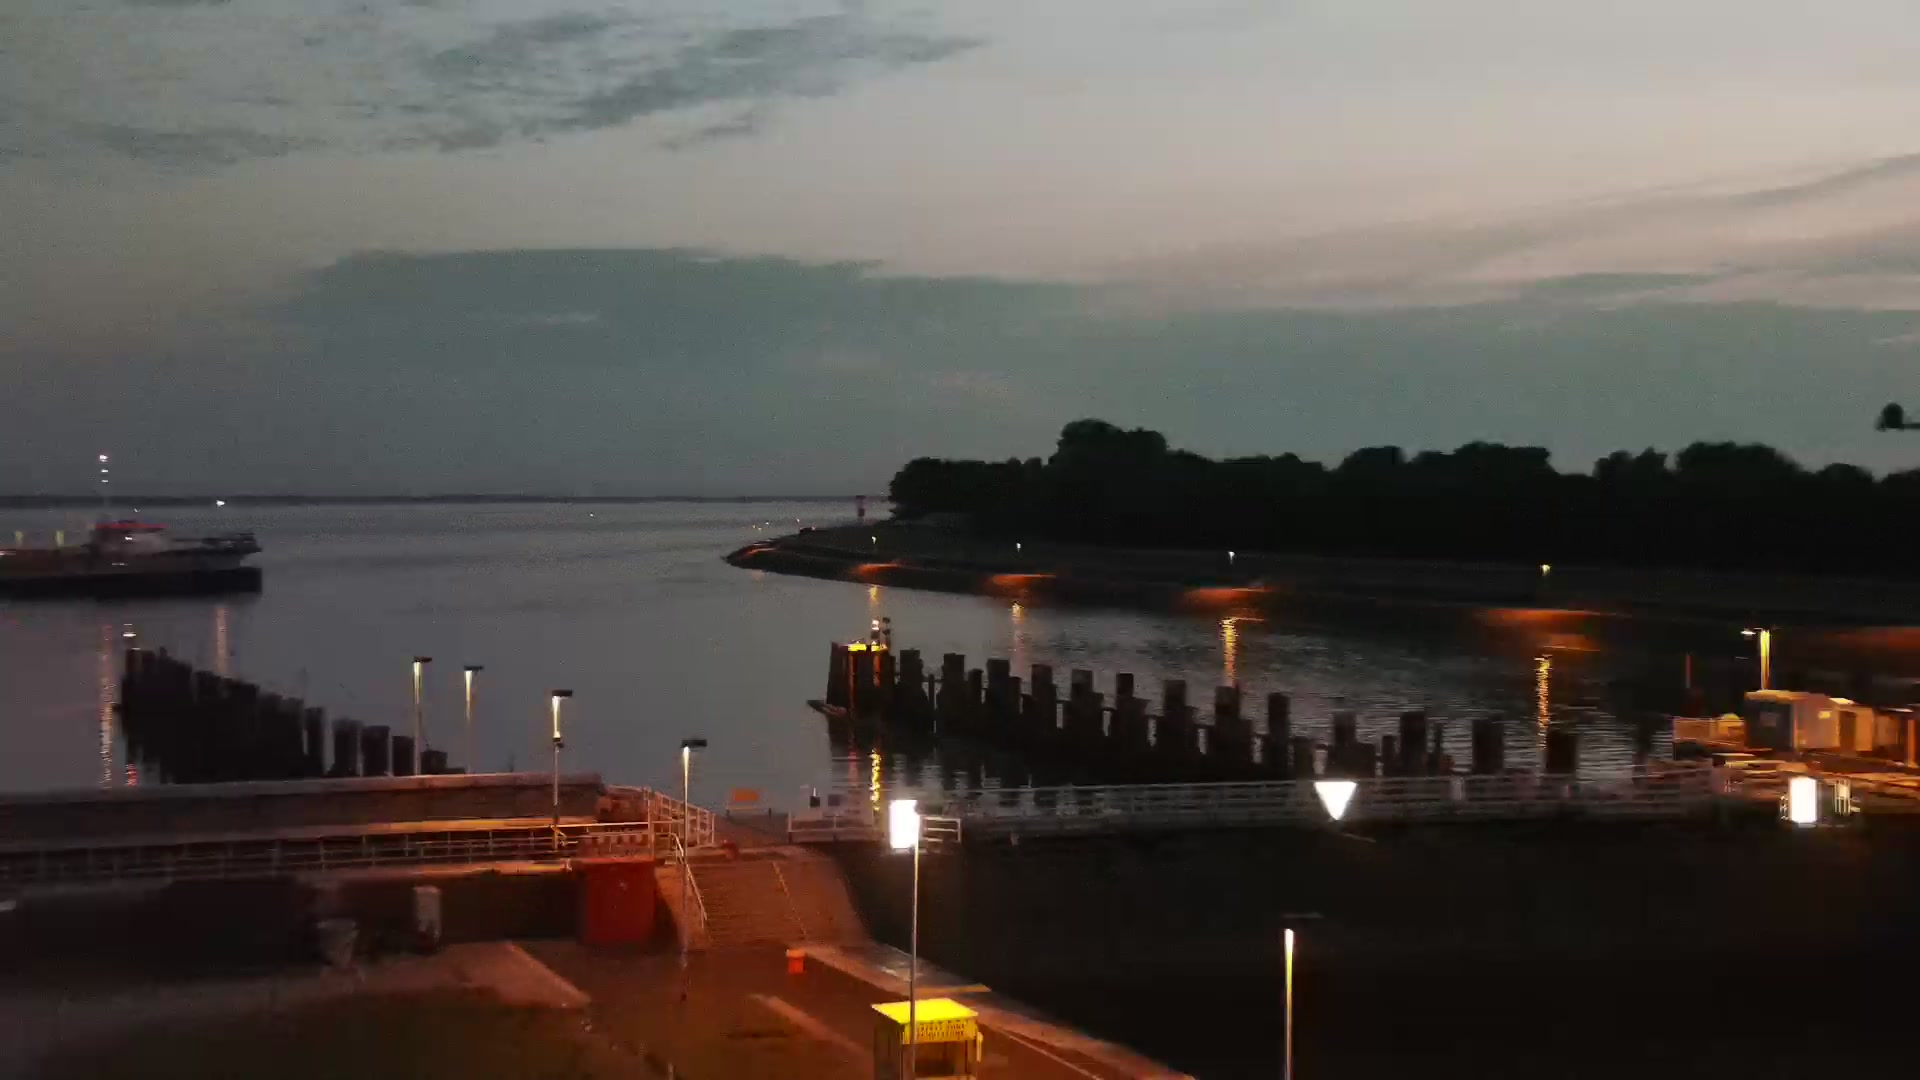sea: (1, 454, 264, 600)
